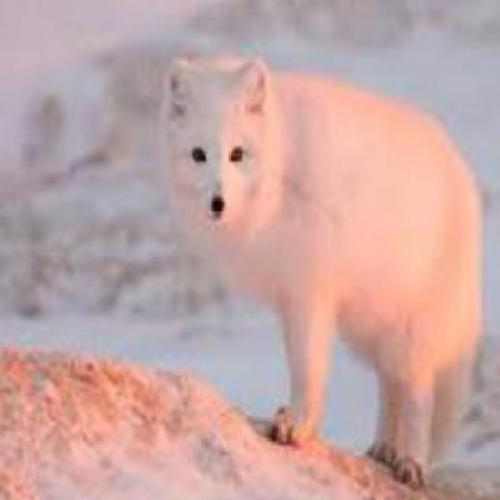arctic_fox-endangered: (162, 55, 488, 490)
